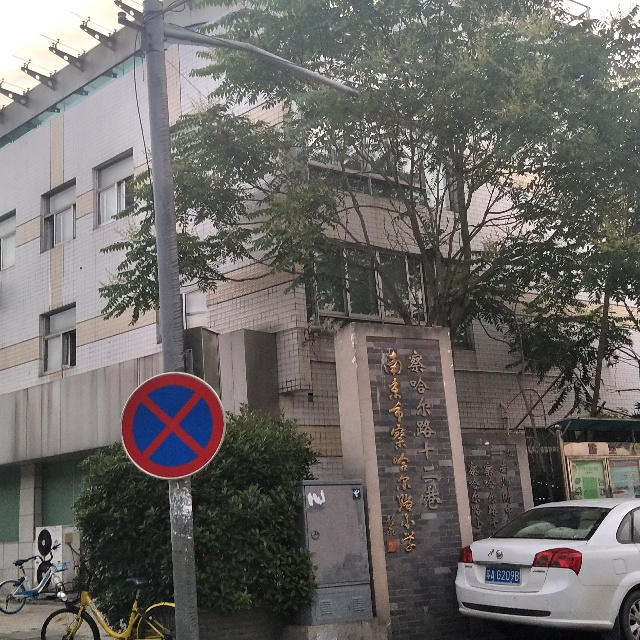stop: (119, 368, 230, 483)
